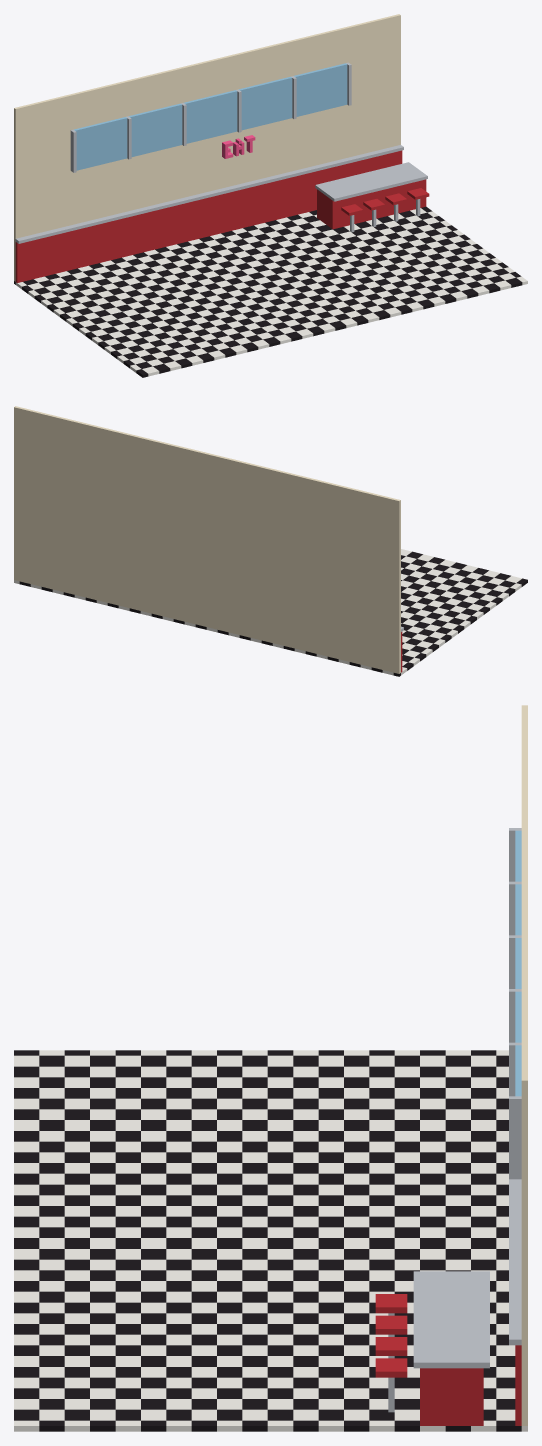
The model's file is diner.glb.
3 renders of one model, top to bottom at view 1: azimuth 30°, elevation 25°; view 2: azimuth 150°, elevation 25°; view 3: azimuth 270°, elevation 25°, orthographic. The views are drawn at different scales.
Visible parts, largest first — view 1: diner; view 2: diner; view 3: diner.
Boxes of the visible parts, x1,y1,x2,y2 form: diner: [14, 14, 527, 377]; diner: [14, 406, 527, 676]; diner: [14, 705, 527, 1431].
Size of the model in its own units: 14 by 6.1 by 8.1.
1 material, 1 textured.
